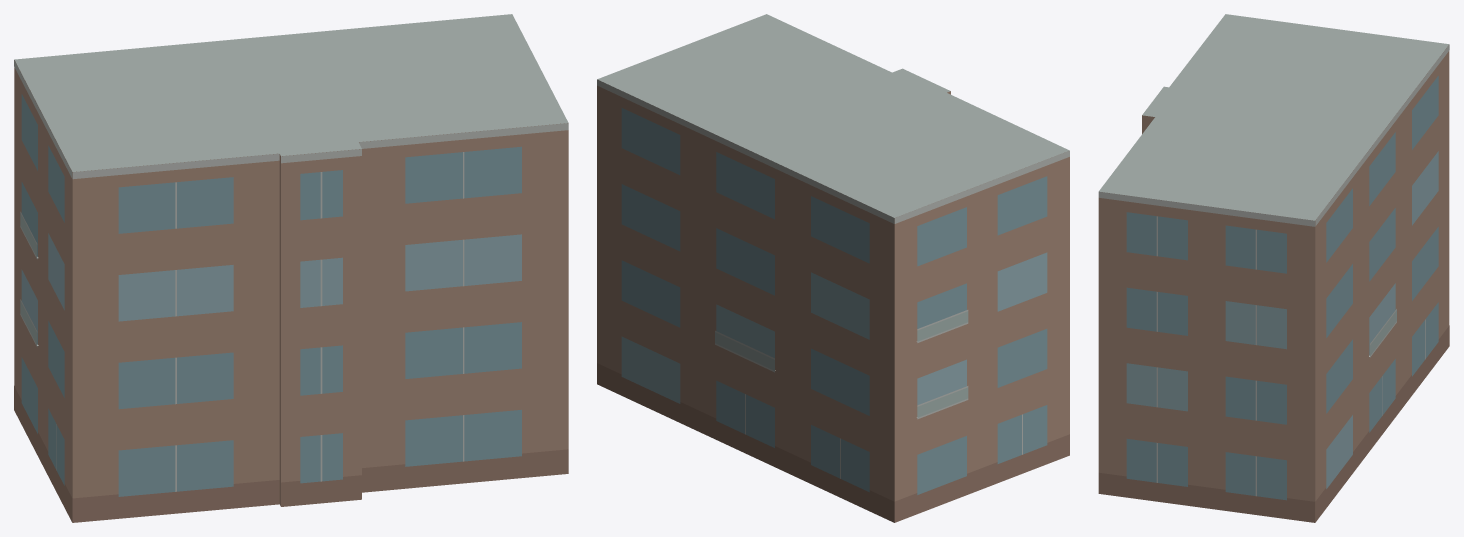
File: survey-upis-32692235.glb
3 renders of one model, left to right at view 1: azimuth 30°, elevation 25°; view 2: azimuth 150°, elevation 25°; view 3: azimuth 270°, elevation 25°, orthographic. The views are drawn at different scales.
Parts seen in each view (by area): view 1: survey-upis-32692235.tmp; view 2: survey-upis-32692235.tmp; view 3: survey-upis-32692235.tmp.
Boxes of the visible parts, x1,y1,x2,y2 form: survey-upis-32692235.tmp: [14, 14, 568, 522]; survey-upis-32692235.tmp: [597, 14, 1069, 522]; survey-upis-32692235.tmp: [1098, 14, 1449, 522].
Bounding box in the file's own units: 17.62 × 12 × 12.64.
